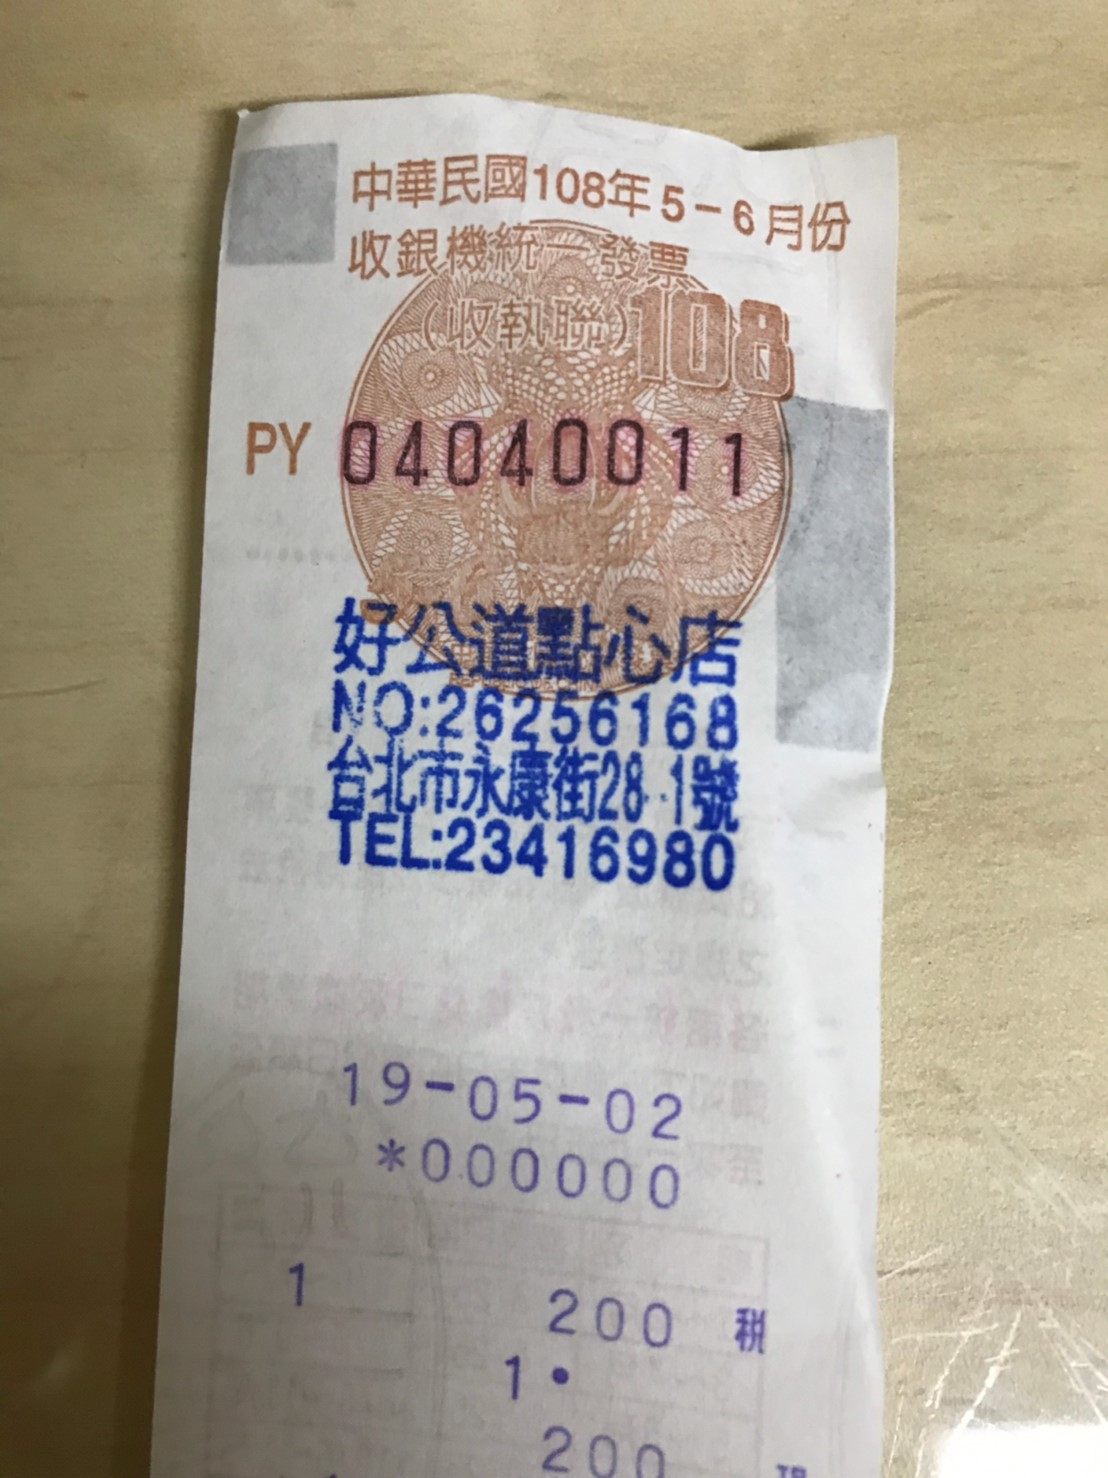Date_Old: (533, 155, 852, 260)
Number_Old: (341, 405, 753, 509)
